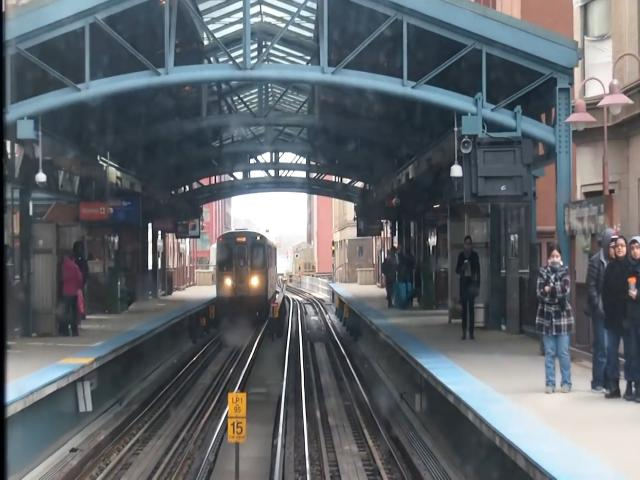signal light: (332, 241, 338, 261)
